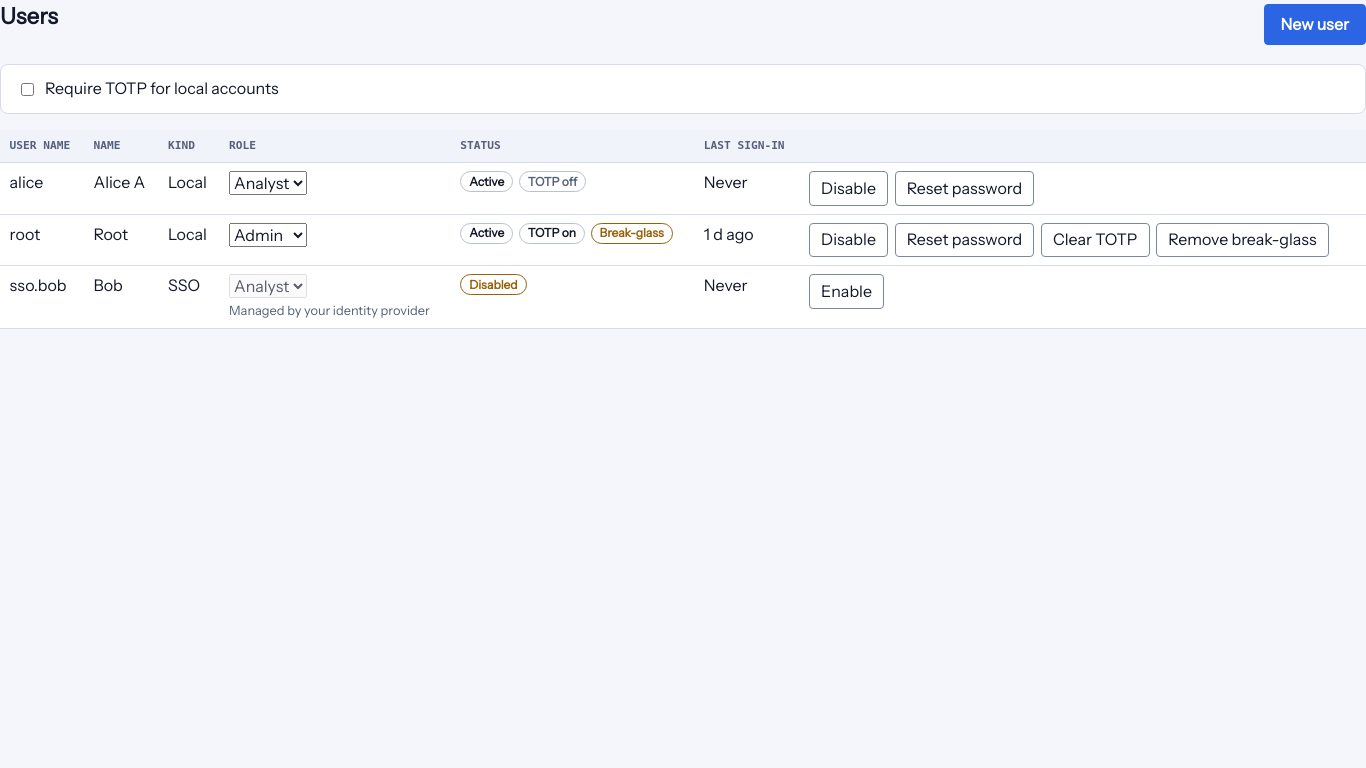
Test: UsersAdminPage › reset password asks for a new password and confirms "They must change it at next sign-in."
expect the text "alice" is shown: met, box [0,162,84,214]
Click the button with aria-label "Reset password for alice": (964, 188) [894,171,1034,206]
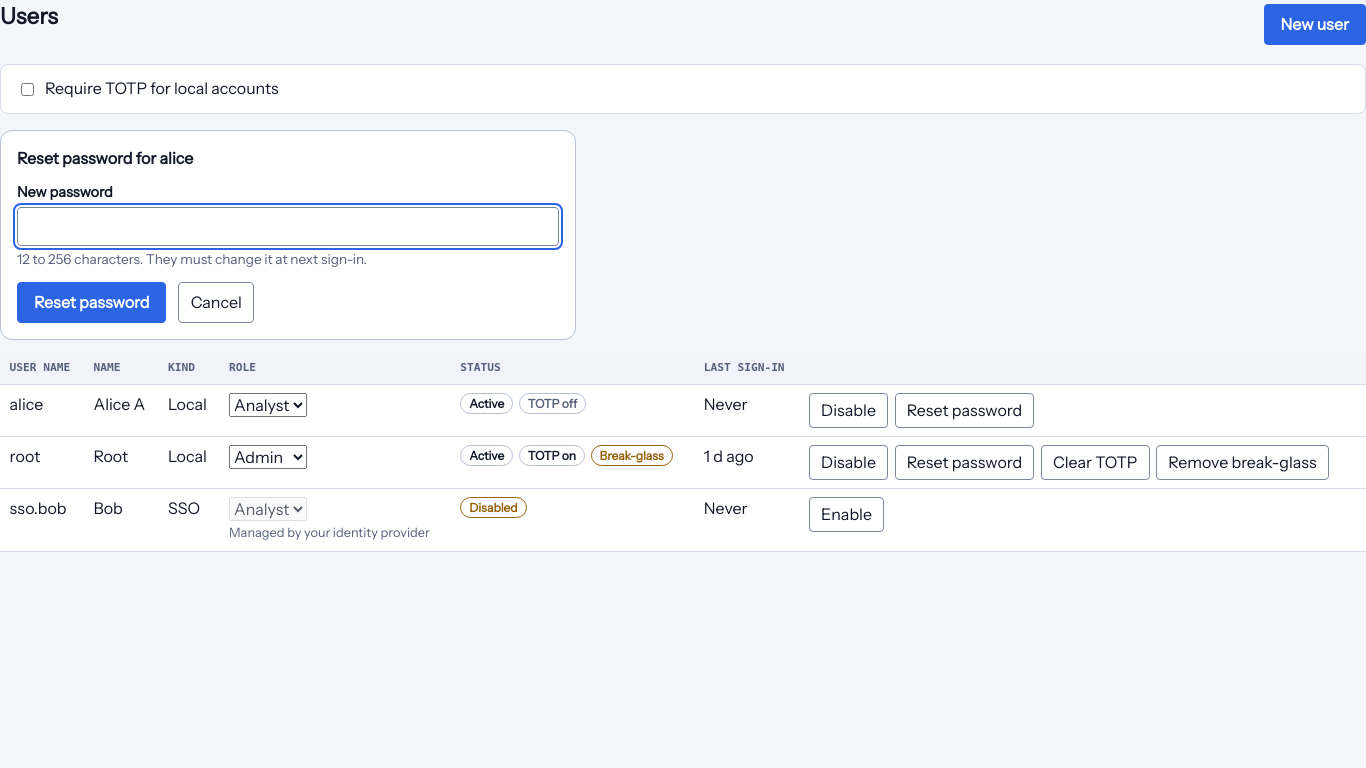
In the password field labelled "New password": (288, 226) [17,207,559,246], type "short"
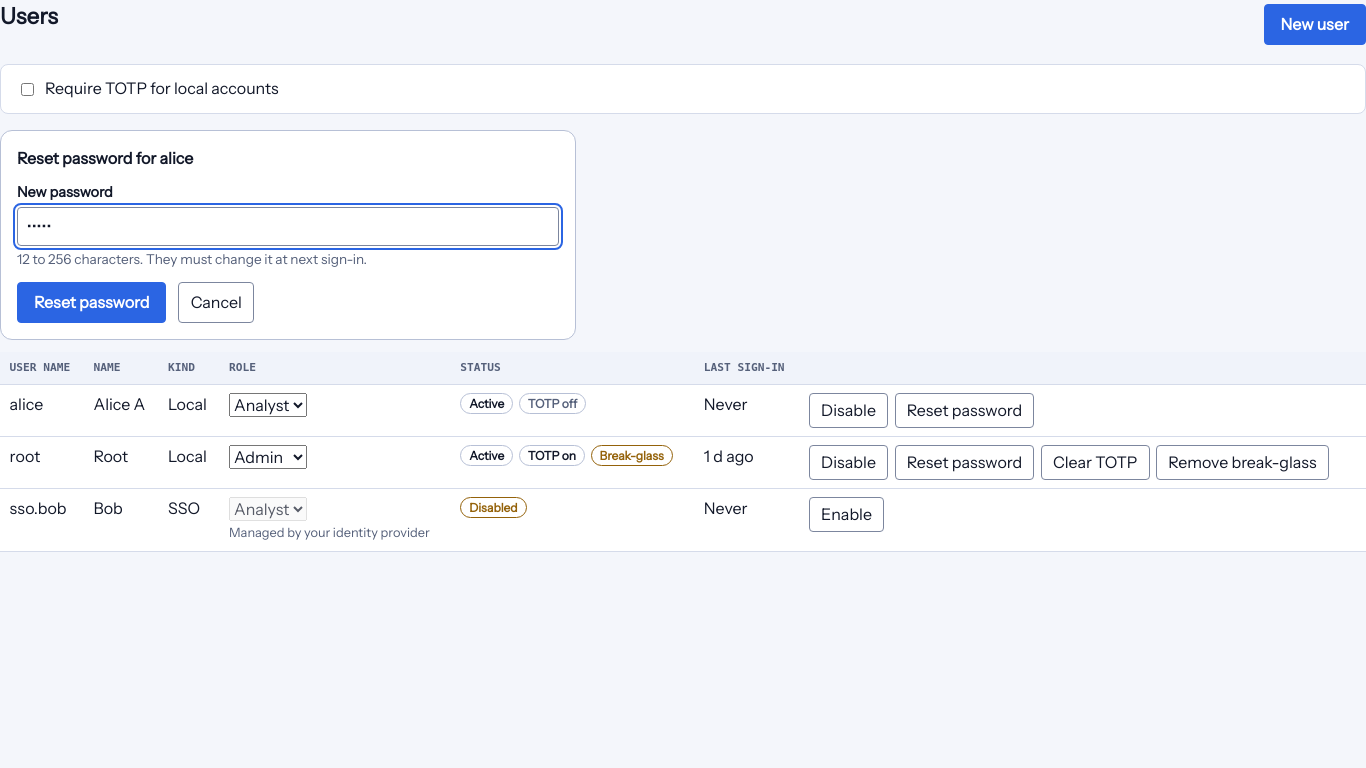
Click the button "Reset password" below "New password": (92, 303) [17,282,166,323]
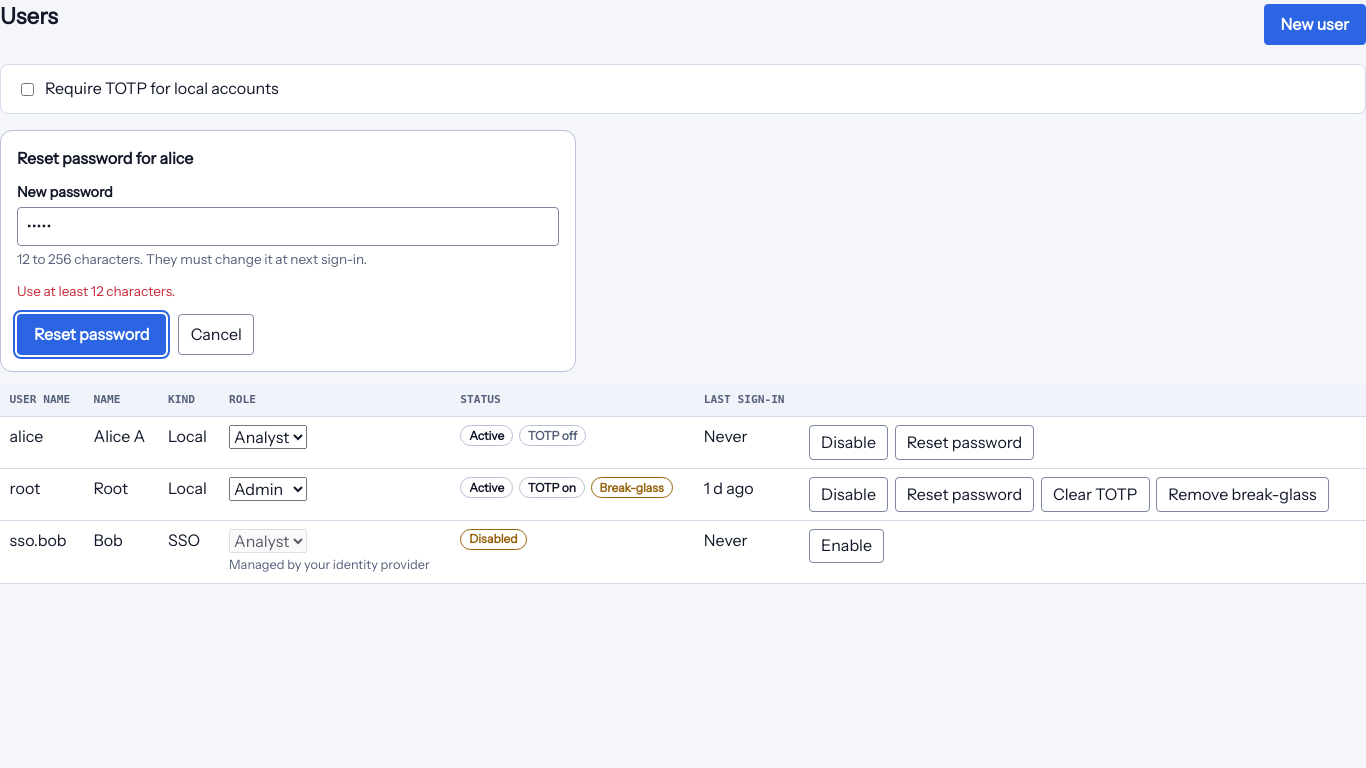
expect the text "Use at least 12 characters." is shown: met, box [17,283,175,299]
In the password field labelled "New password": (288, 226) [17,207,559,246], type "a-new-long-password"
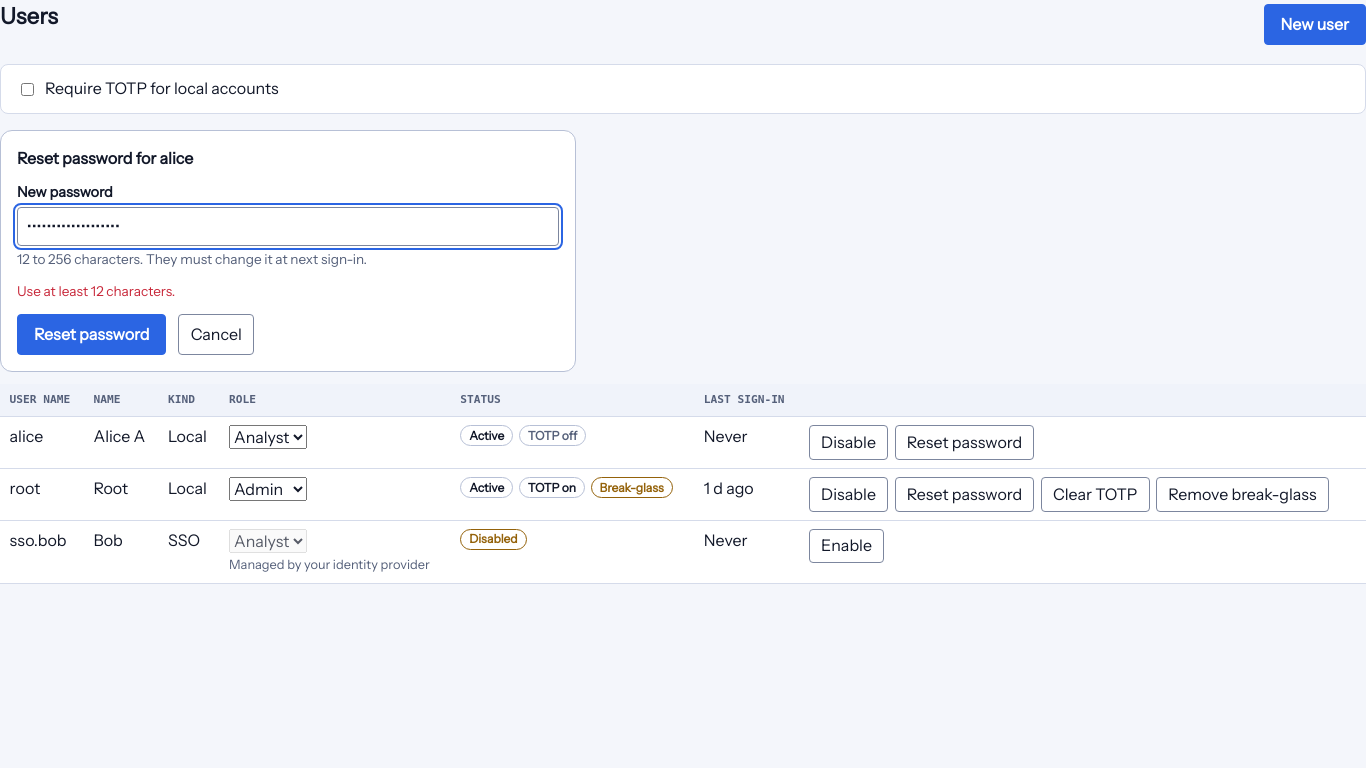
Click the button "Reset password" below "Use at least 12 characters.": (92, 334) [17,314,166,355]
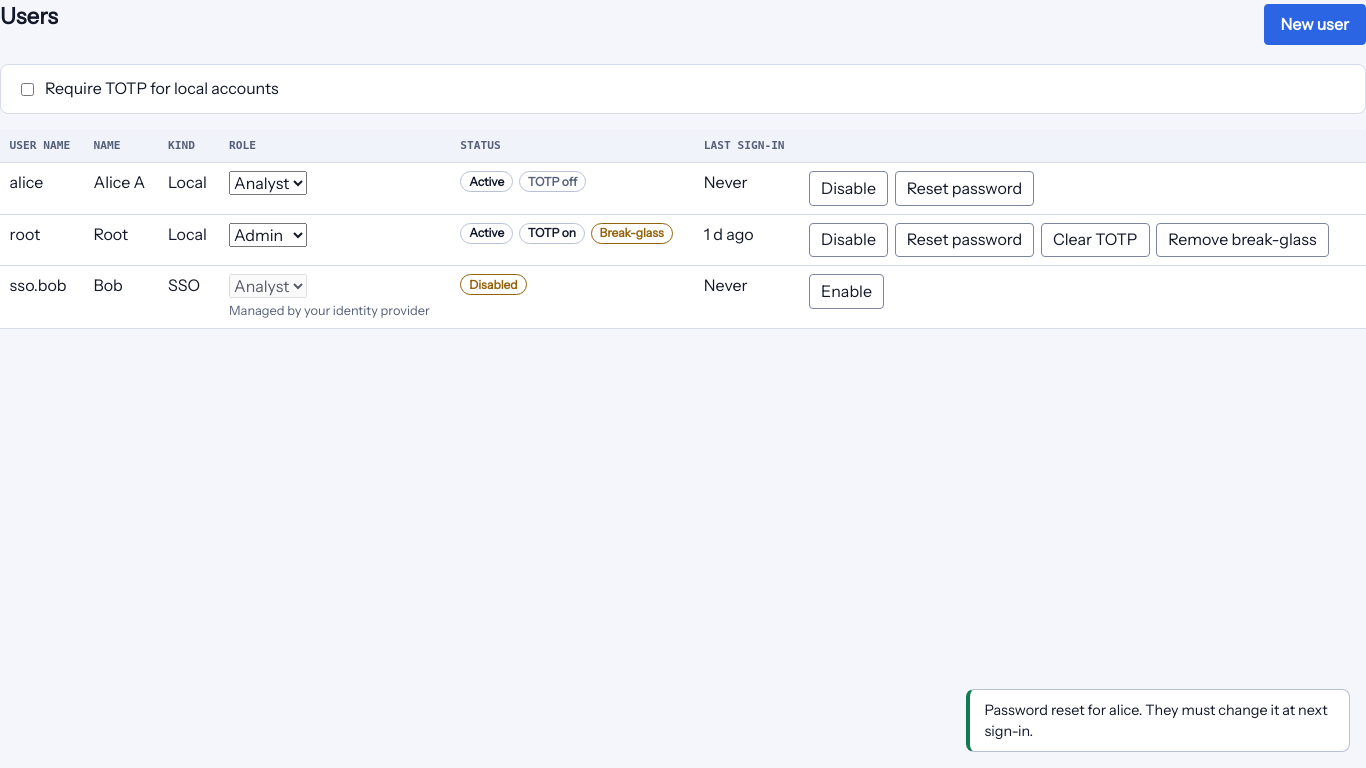
expect the text "They must change it at next sign-in." is shown: met, box [984,701,1328,740]
